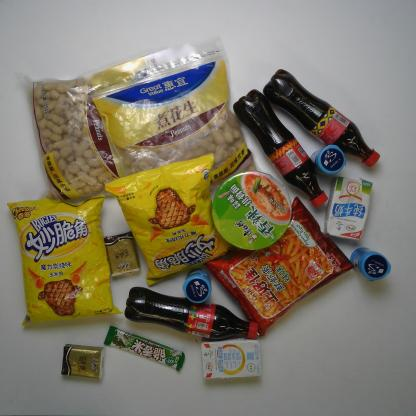Chocolate: (104, 324, 189, 371)
Dried Food: (88, 36, 261, 194), (18, 62, 146, 204)
Drink: (263, 66, 382, 166), (235, 89, 329, 209), (124, 285, 262, 340)
Gum: (347, 244, 387, 285), (310, 142, 346, 175), (184, 268, 212, 304)
Instant Noodles: (210, 169, 292, 252)
Milk: (324, 173, 376, 242), (200, 337, 262, 381)
Puffed Food: (207, 195, 356, 336), (103, 152, 236, 286), (6, 191, 123, 324)
Tissue: (102, 229, 143, 278), (58, 343, 106, 381)
